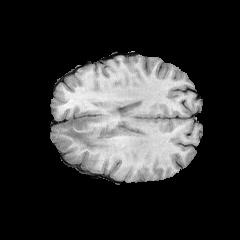glioma: (51, 102, 119, 155)
